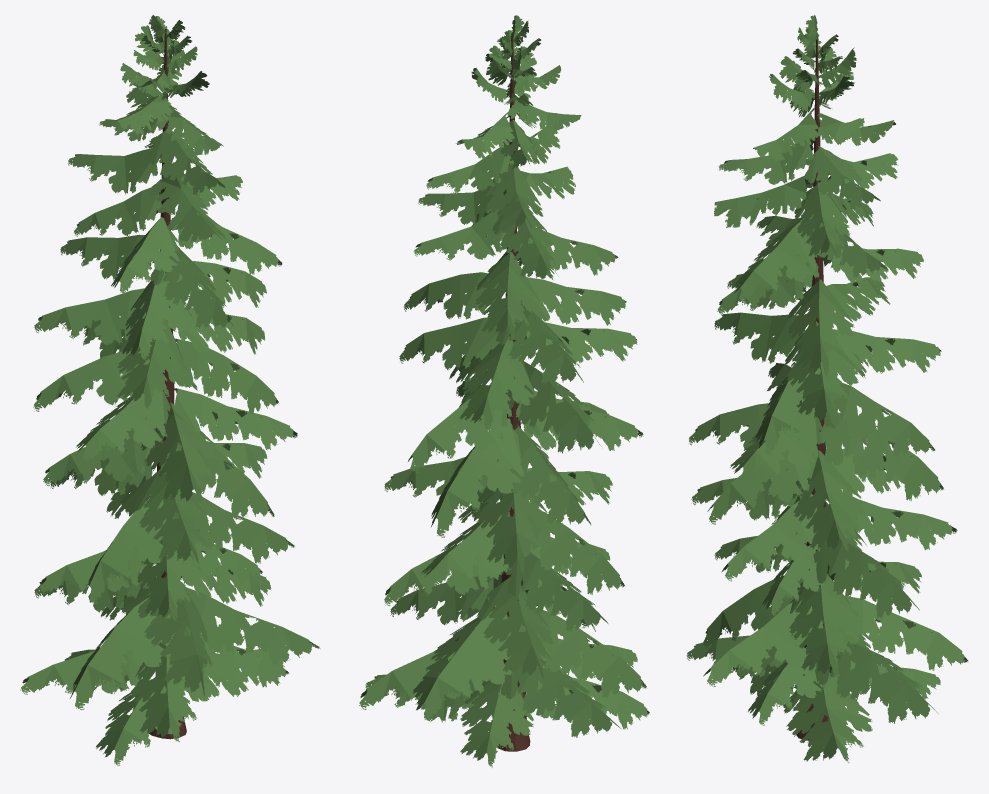
Rendered from Tree_Pine_01.fbx.
3 renders of one model, left to right at view 1: azimuth 30°, elevation 25°; view 2: azimuth 150°, elevation 25°; view 3: azimuth 270°, elevation 25°, orthographic.
Visible parts, largest first — view 1: SM_Tree_Pine_01b.mo; view 2: SM_Tree_Pine_01b.mo; view 3: SM_Tree_Pine_01b.mo.
Boxes of the visible parts, x1,y1,x2,y2 form: SM_Tree_Pine_01b.mo: (20, 15, 320, 765); SM_Tree_Pine_01b.mo: (359, 15, 649, 767); SM_Tree_Pine_01b.mo: (686, 15, 968, 763).
Bounding box in the file's own units: 481 × 1246 × 461.
